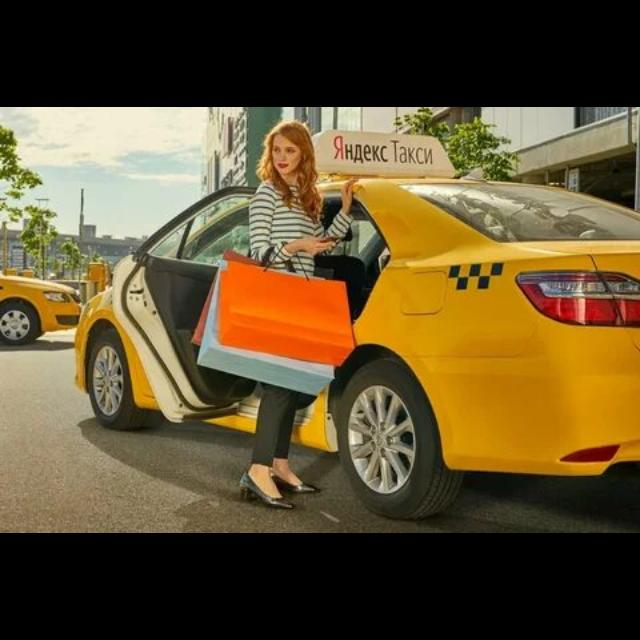taxi: (73, 129, 639, 521), (2, 267, 83, 347)
